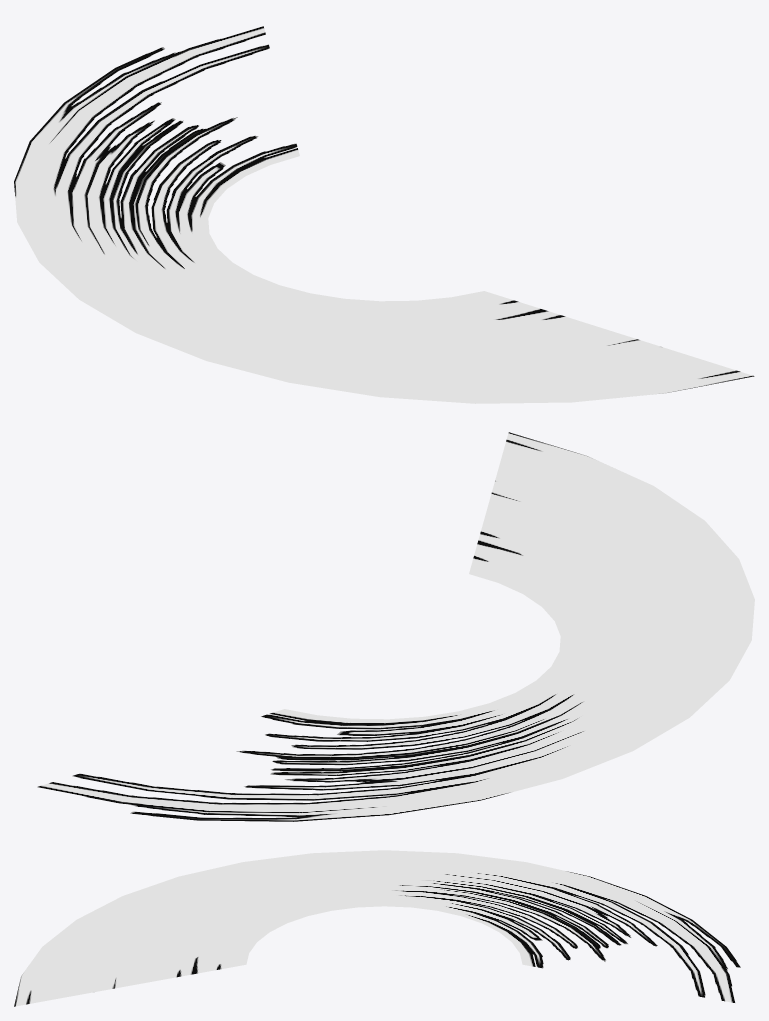
File: Slash1.fbx
3 renders of one model, top to bottom at view 1: azimuth 30°, elevation 25°; view 2: azimuth 150°, elevation 25°; view 3: azimuth 270°, elevation 25°, orthographic. The views are drawn at different scales.
Visible parts, largest first — view 1: Circle.001; view 2: Circle.001; view 3: Circle.001.
Part boxes in pixels (x1,y1,x2,y2): Circle.001: [14, 26, 754, 403]; Circle.001: [37, 432, 754, 821]; Circle.001: [14, 850, 740, 1006].
Bounding box in the file's own units: 103 × 0.0324 × 206.
